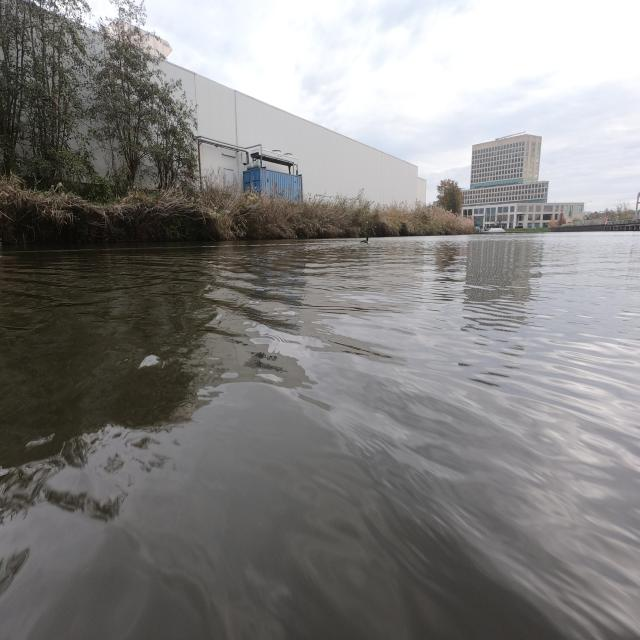boat: (480, 227, 506, 234)
reed: (0, 176, 474, 245)
sky: (146, 0, 640, 209)
tree: (149, 81, 197, 189)
wall: (576, 214, 640, 231)
water: (0, 233, 640, 640)
